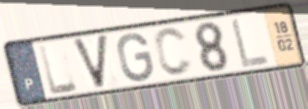8: (192, 20, 231, 74)
C: (152, 25, 195, 78)
G: (115, 31, 156, 84)
L: (37, 42, 81, 97), (228, 15, 272, 70)
V: (70, 32, 110, 91)
